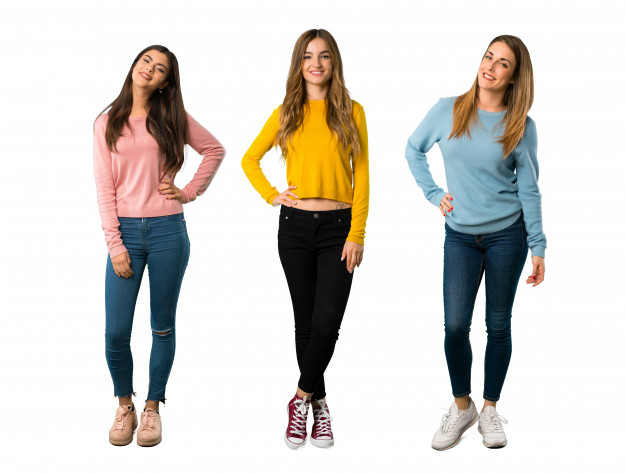person: (90, 38, 231, 219), (257, 28, 383, 216), (422, 28, 546, 219)
